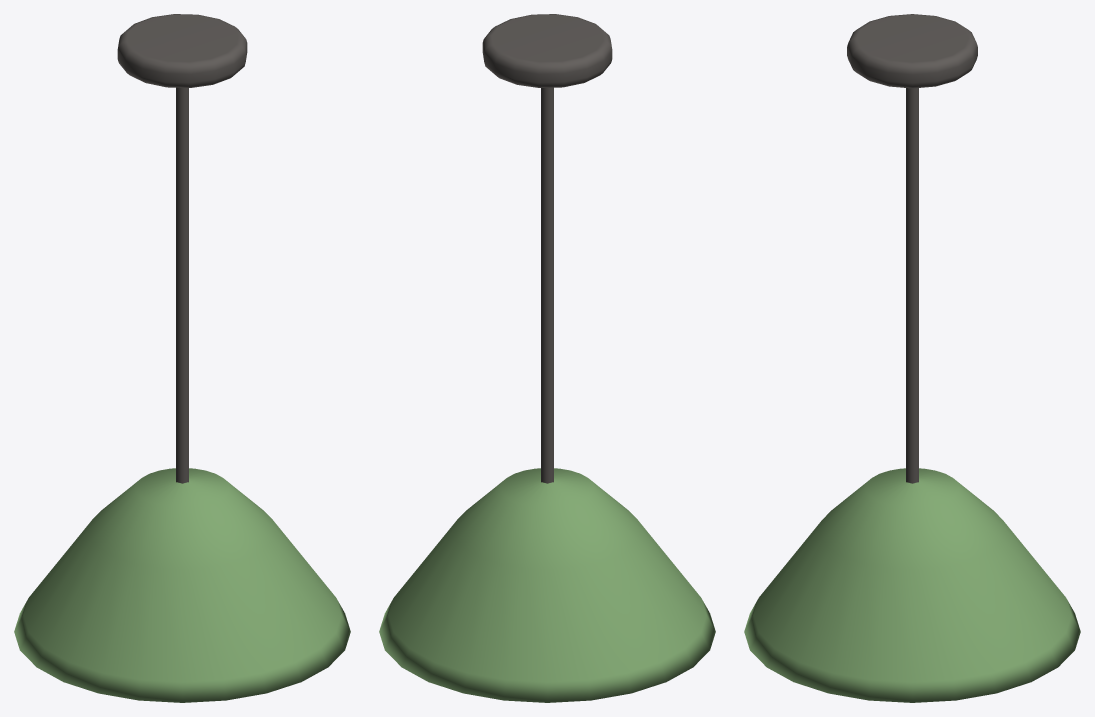
The model's file is enamel_pendant.glb.
3 renders of one model, left to right at view 1: azimuth 30°, elevation 25°; view 2: azimuth 150°, elevation 25°; view 3: azimuth 270°, elevation 25°, orthographic.
Visible parts, largest first — view 1: enamel_pendant_mesh; view 2: enamel_pendant_mesh; view 3: enamel_pendant_mesh.
Boxes of the visible parts, x1=… form: enamel_pendant_mesh: x1=14, y1=14, x2=350, y2=702; enamel_pendant_mesh: x1=379, y1=14, x2=715, y2=702; enamel_pendant_mesh: x1=744, y1=14, x2=1080, y2=702.
Bounding box in the file's own units: 0.36 × 0.7 × 0.36.
